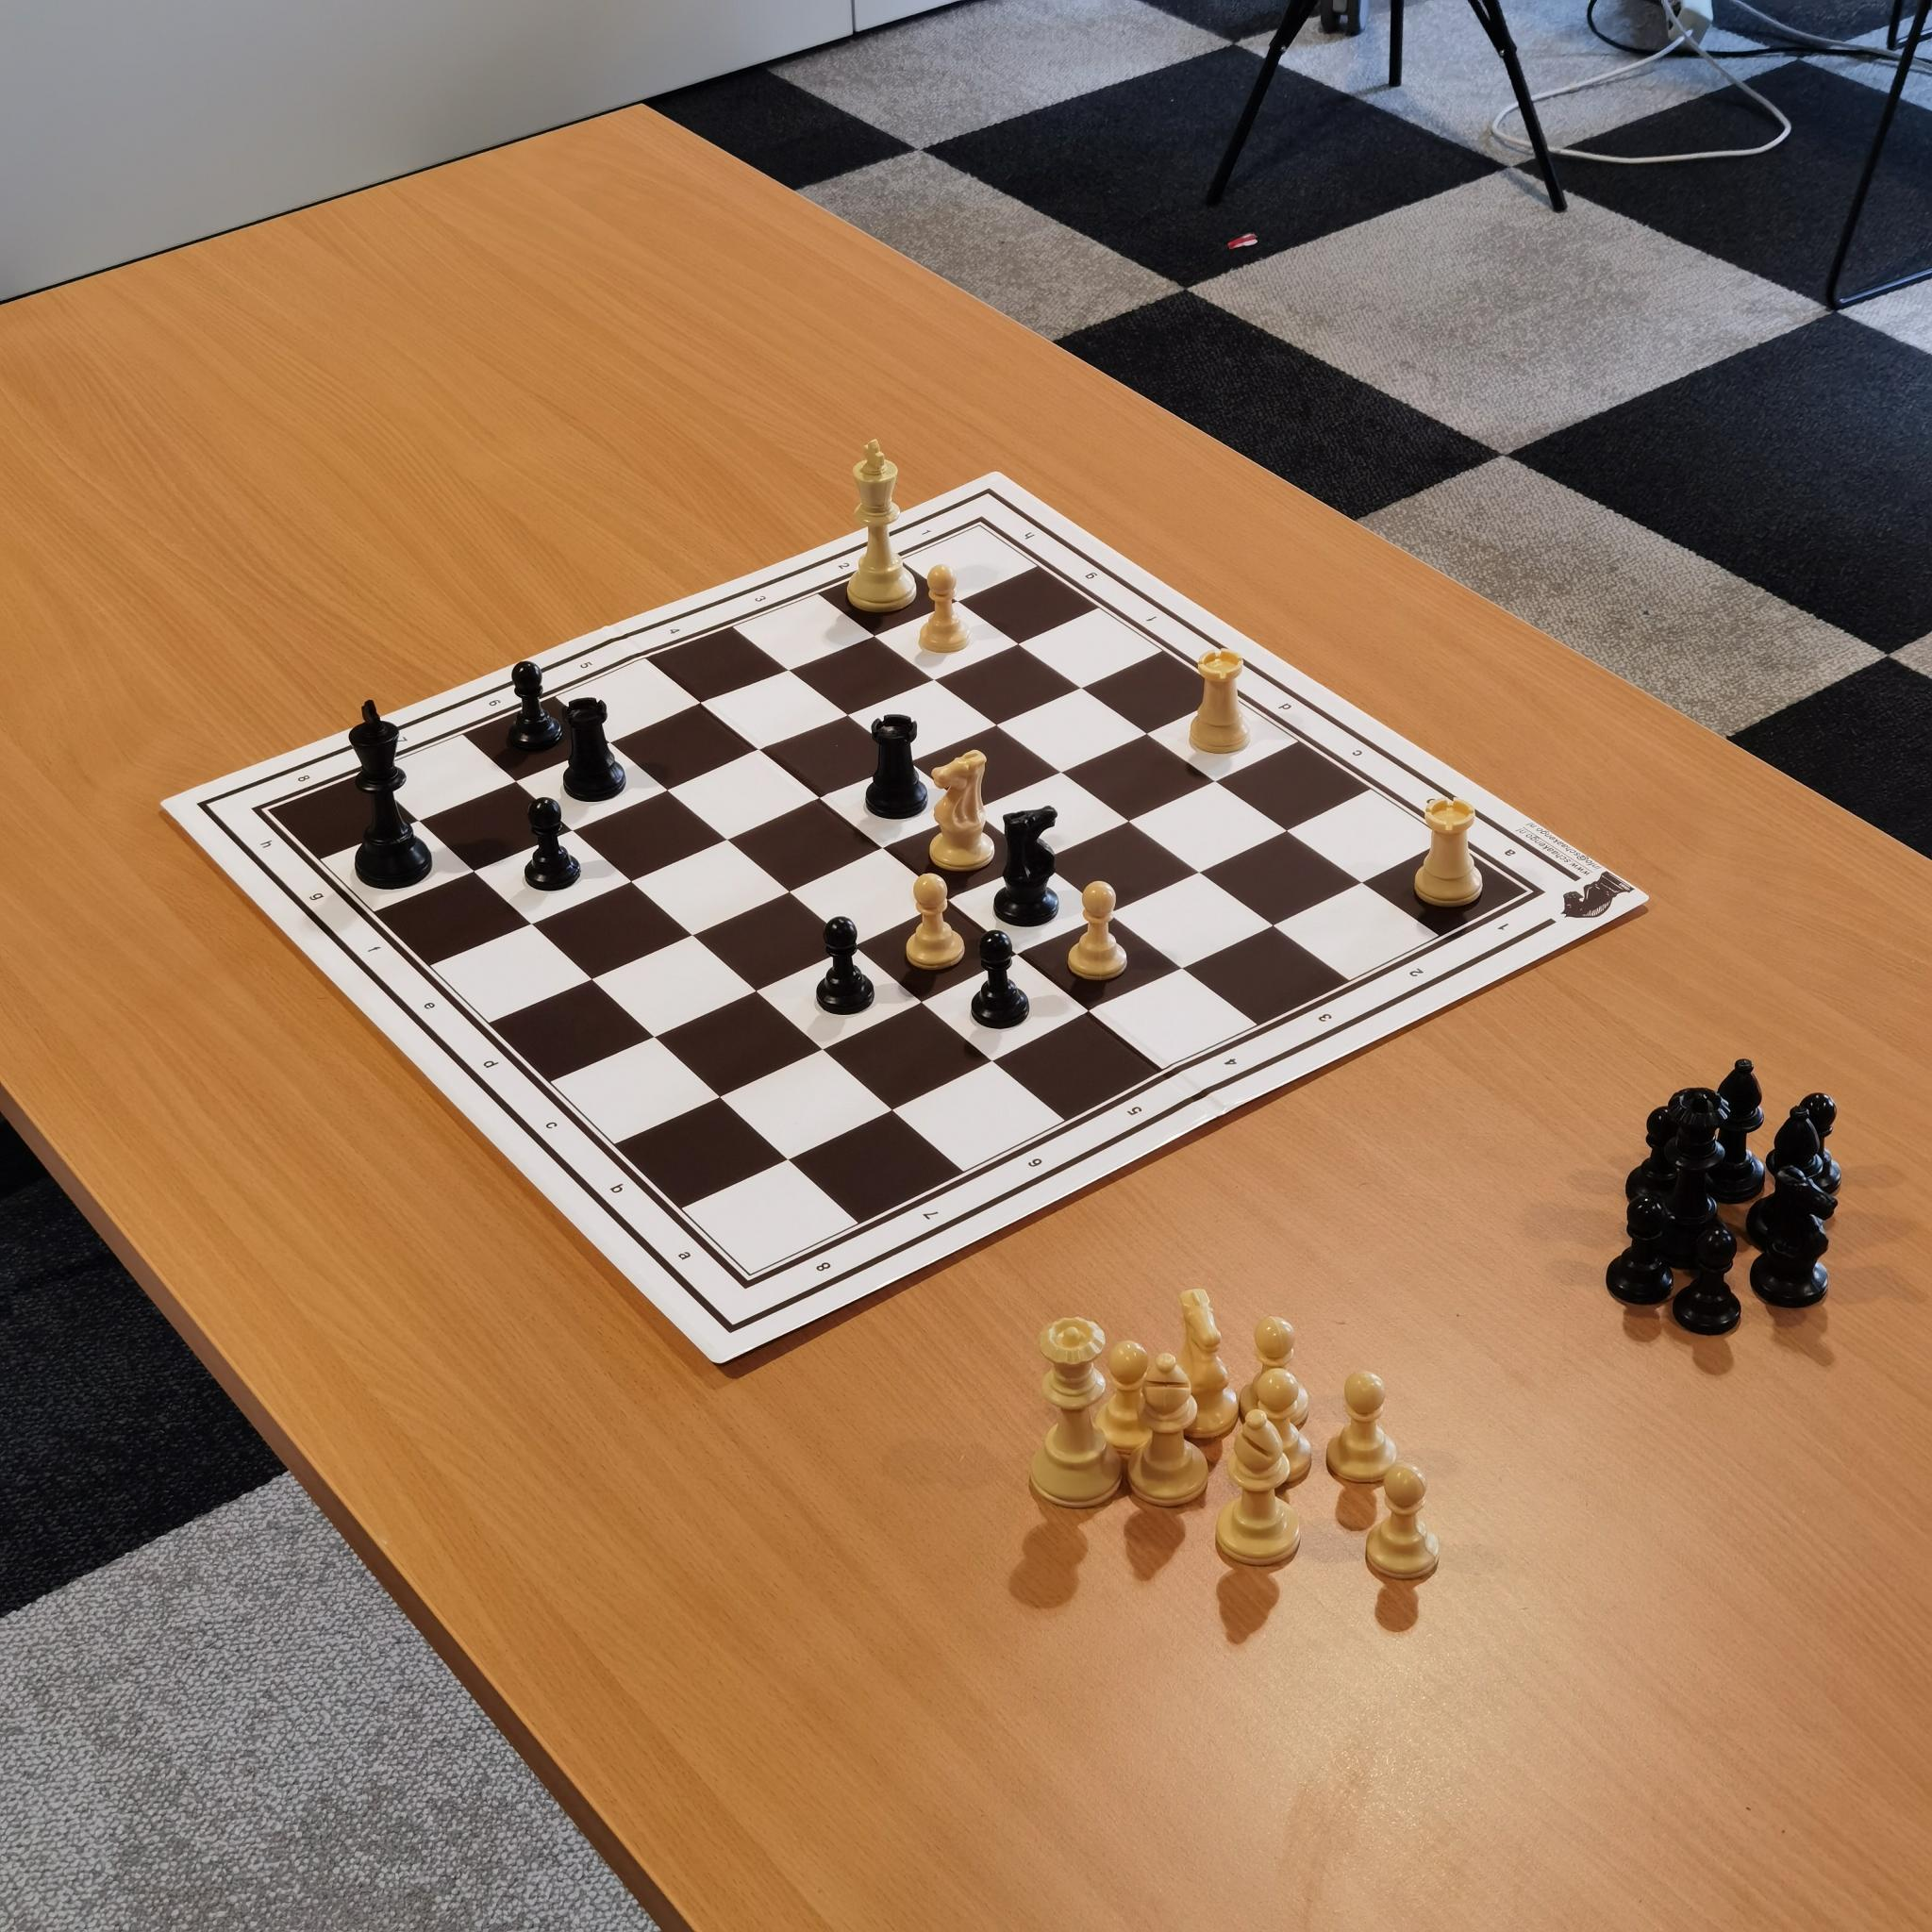corners: (1506, 870, 1557, 911), (729, 1260, 771, 1302), (241, 796, 288, 832), (962, 511, 1003, 545)
eight: (798, 1240, 844, 1292), (290, 761, 322, 793)
one: (1490, 913, 1527, 941)
